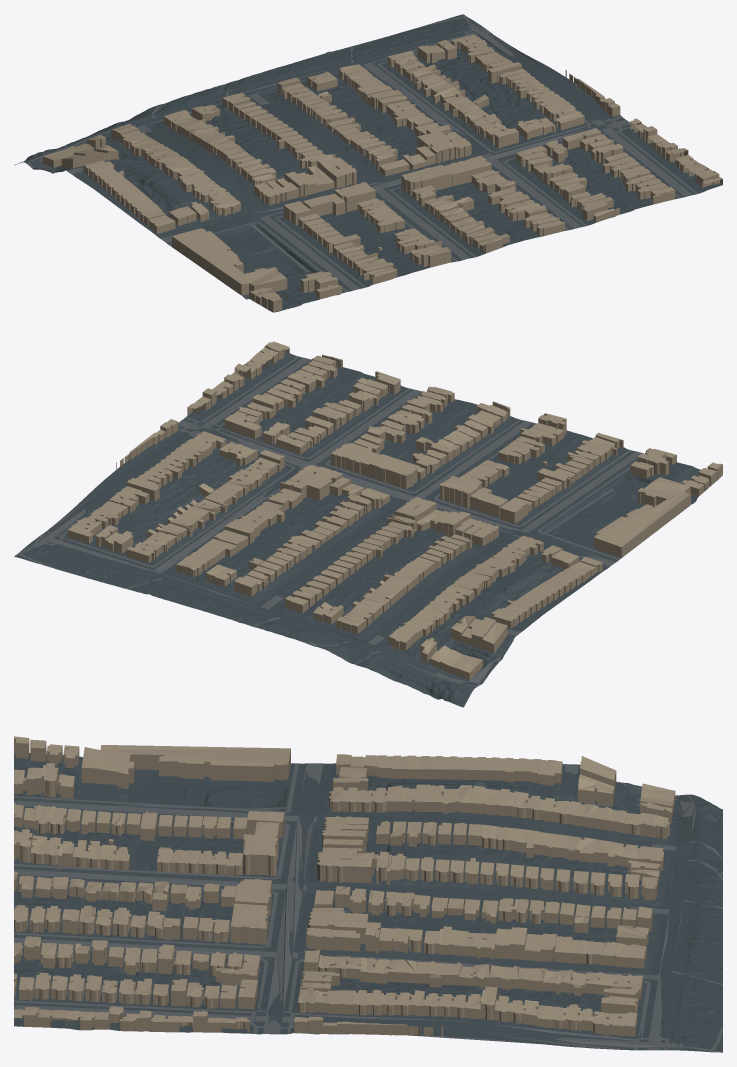
Rendered from epsg26910-1421-10877.lod0.glb.
3 views of the same model, one above another, from view 1: azimuth 30°, elevation 25°; view 2: azimuth 150°, elevation 25°; view 3: azimuth 270°, elevation 25° (orthographic). The views are drawn at different scales.
Parts seen in each view (by area): view 1: epsg26910-1421-10877-lod0; view 2: epsg26910-1421-10877-lod0; view 3: epsg26910-1421-10877-lod0.
Boxes of the visible parts, left/top/right/bottom form: epsg26910-1421-10877-lod0: left=14, top=14, right=722, bottom=312; epsg26910-1421-10877-lod0: left=14, top=341, right=722, bottom=707; epsg26910-1421-10877-lod0: left=14, top=736, right=722, bottom=1052.
Bounding box in the file's own units: 384 × 56.97 × 384.
